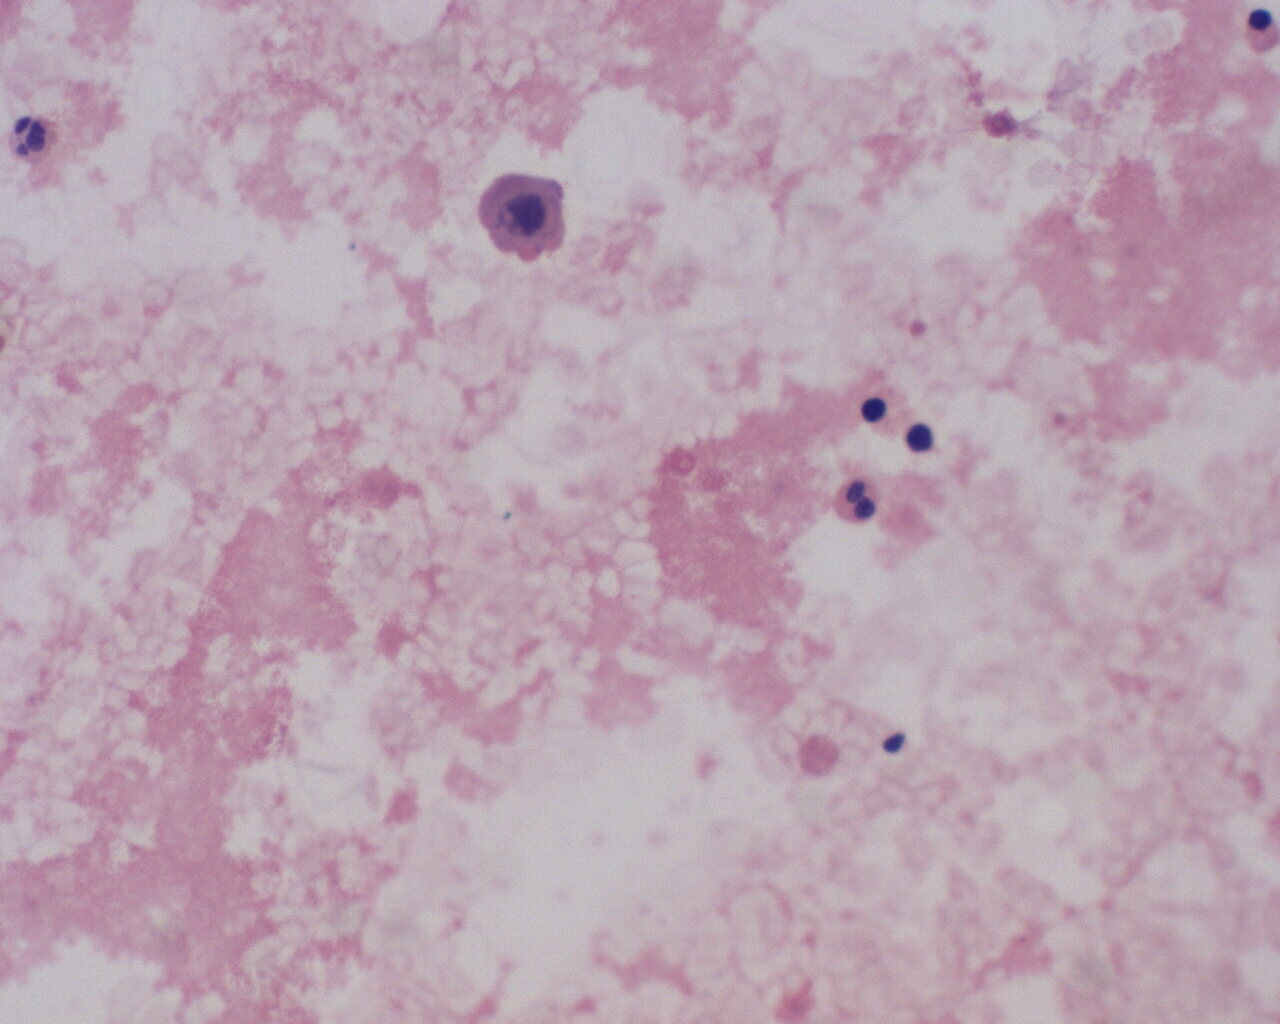lymph: (855, 385, 895, 428), (902, 420, 939, 458)
neutro: (9, 111, 59, 162)
